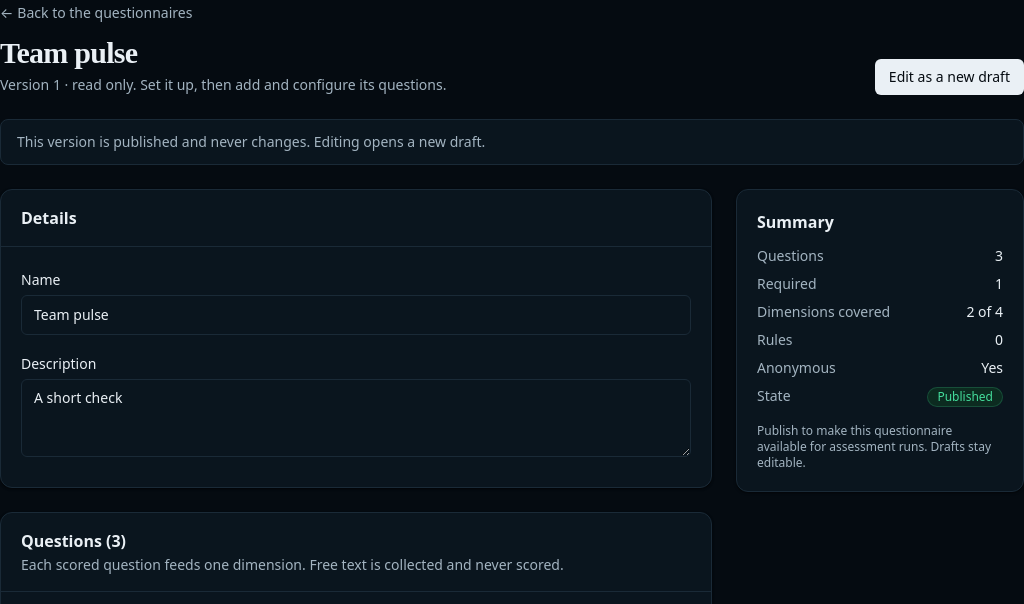
Test case: BuilderPage: other states › shows a published version read only and offers to edit it as a new draft
Expected: the heading "Team pulse" is shown, [0,36,137,69]
Expected: the heading "Before you publish" is not shown
Click the button "Edit as a new draft" at (949, 77), box [875,59,1023,95]
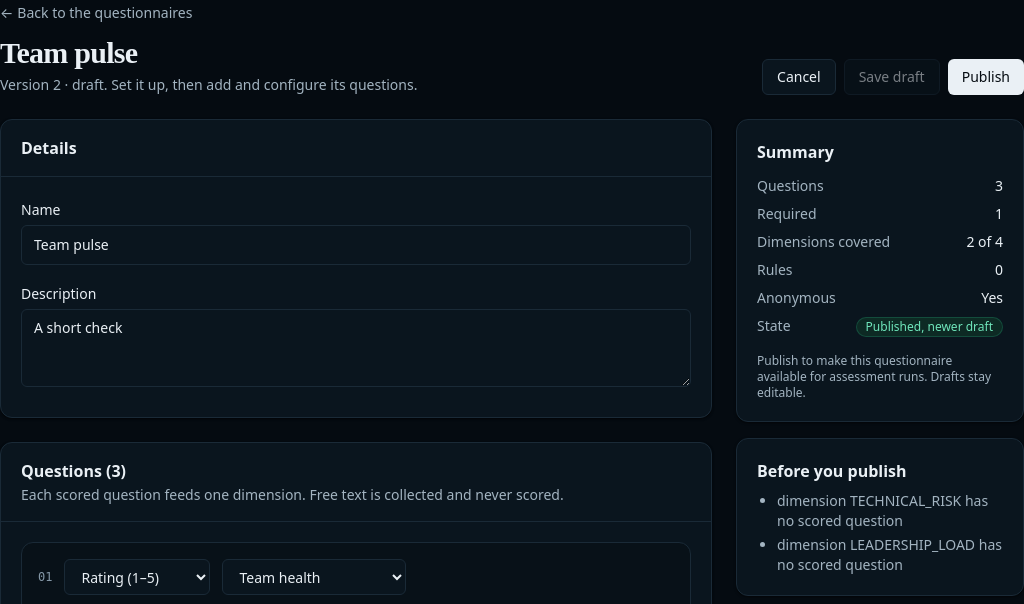
Expected: the button "Publish" is shown, [948,59,1023,95]
